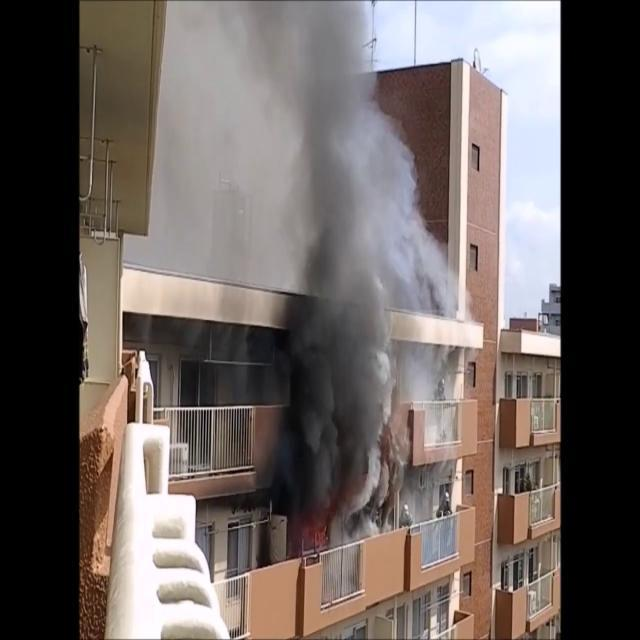Smoke: (150, 1, 415, 516)
